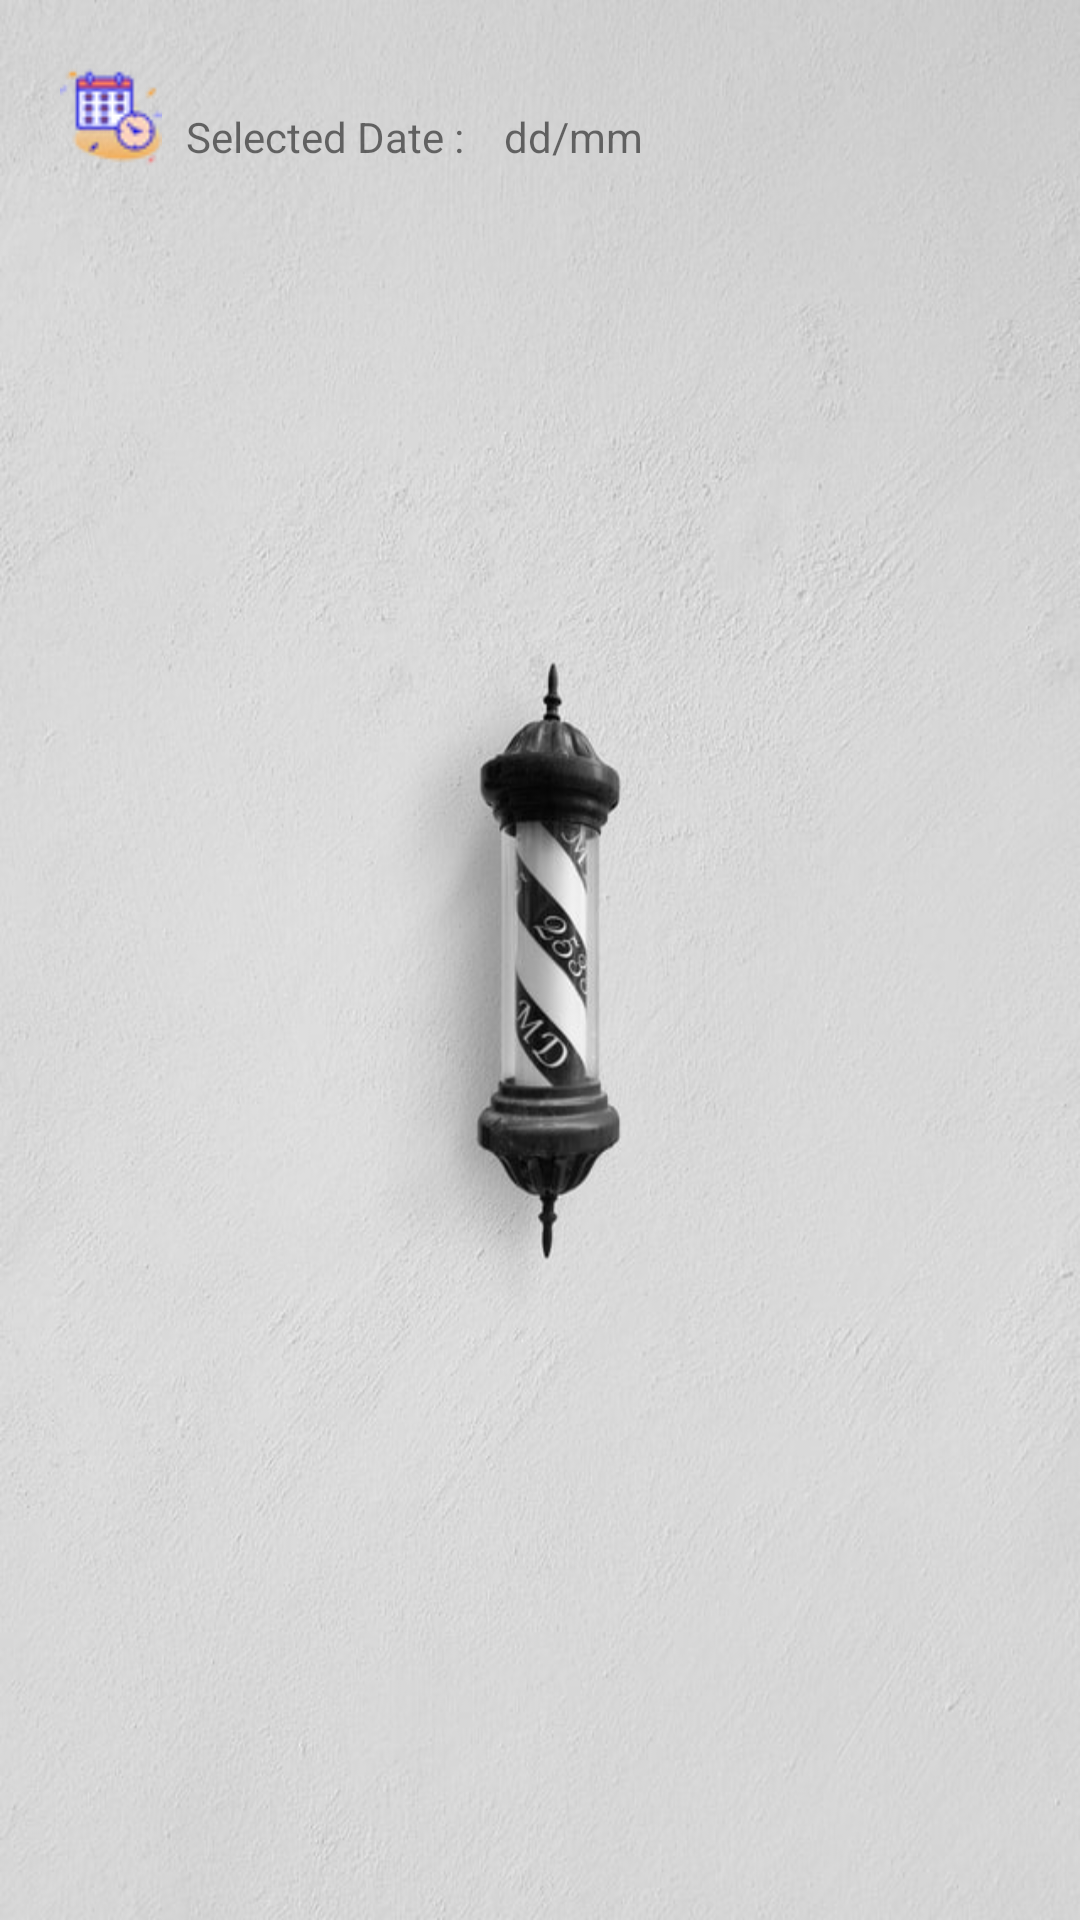

Where icons sit on this 1080px×1920px app screen, as (x1, y1, x2, y2):
calendar: (60, 70, 162, 167)
